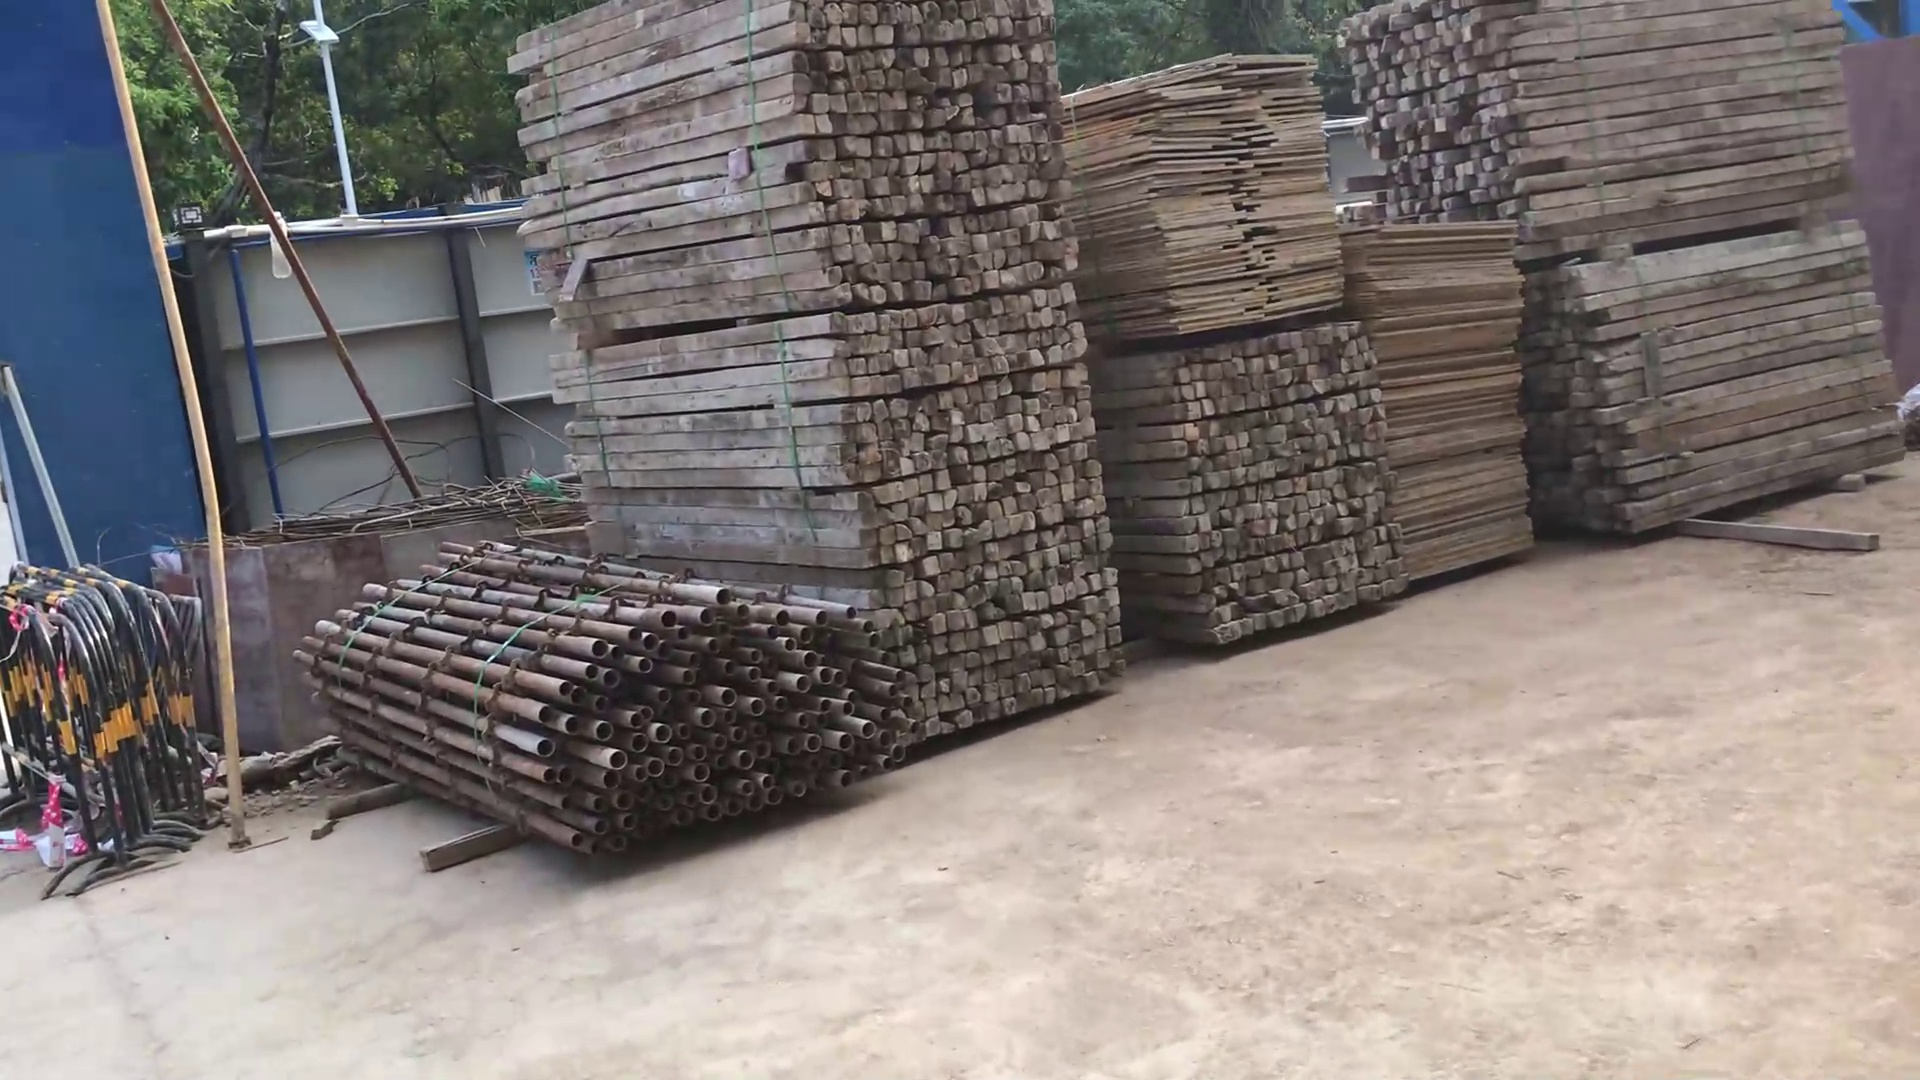board: (1063, 47, 1342, 338), (1345, 219, 1535, 585)
scaffold: (287, 538, 918, 853)
wood: (516, 1, 1126, 744), (1342, 1, 1853, 233), (1524, 233, 1908, 537), (1085, 320, 1404, 649)
